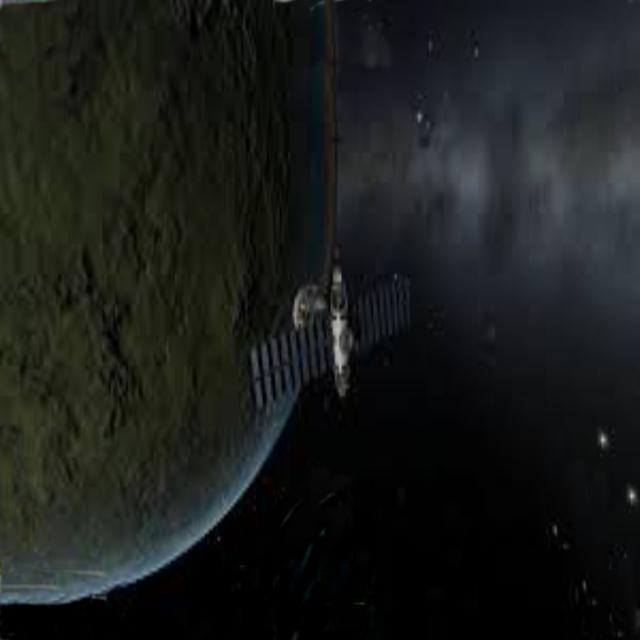satellite: (252, 255, 420, 427)
